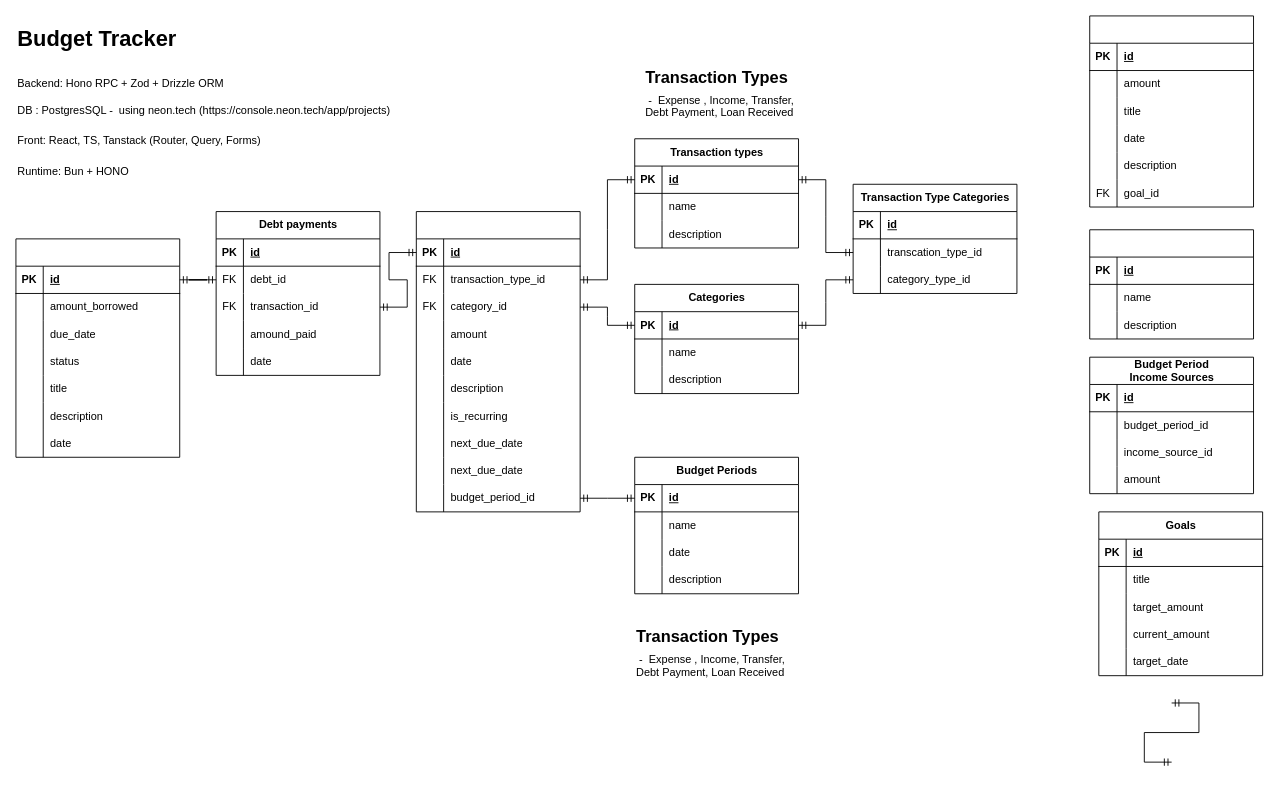
Image size: 1279x786. Some labels were removed from this diagram. Each missing label, with the box of its shape:
Debts: (15, 238, 180, 457)
Income Source: (1089, 229, 1254, 339)
Savings: (1089, 15, 1254, 207)
Transactions: (415, 211, 580, 512)
